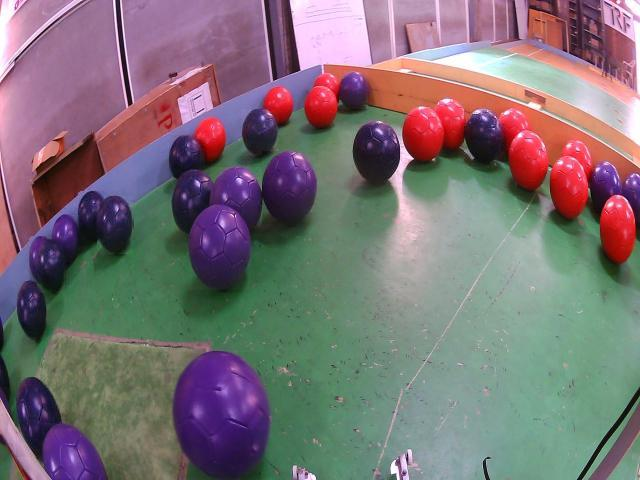jambhalya: (173, 352, 270, 478), (189, 205, 251, 290), (262, 152, 318, 224), (42, 424, 108, 480), (210, 167, 262, 228), (590, 162, 621, 213), (51, 215, 79, 263), (340, 72, 368, 109), (623, 174, 640, 228), (30, 236, 47, 281), (0, 387, 10, 413)
kaalyya: (16, 378, 61, 457), (353, 122, 400, 184), (172, 170, 212, 232), (97, 196, 133, 254), (465, 109, 503, 163), (16, 282, 46, 339), (242, 110, 278, 156), (37, 240, 65, 293), (170, 135, 203, 178), (79, 192, 104, 239), (0, 318, 3, 351)
